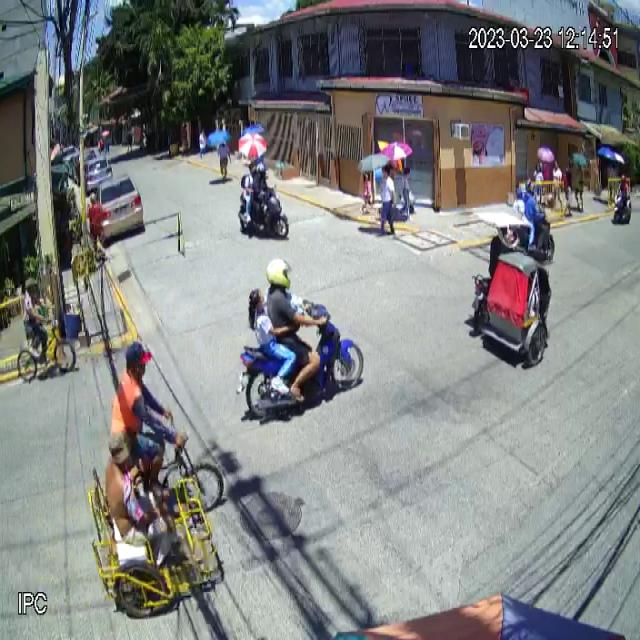Motorcycle: (236, 297, 364, 419), (237, 182, 290, 241)
Tricycle: (471, 212, 552, 367)
